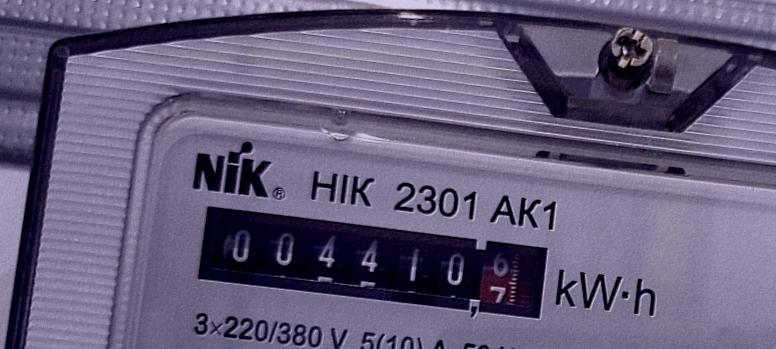0: (228, 225, 253, 265), (273, 228, 295, 268), (444, 250, 467, 288)
1: (404, 245, 422, 284)
4: (357, 236, 383, 277), (314, 230, 340, 270)
6: (492, 251, 512, 279)
7: (486, 283, 507, 305)
screen: (185, 193, 561, 332)
